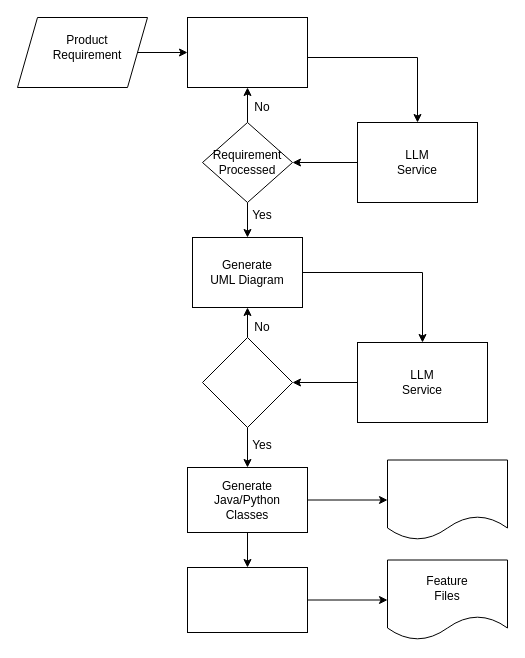
The diagram is 525 pixels wide and 658 high, and some of its shapes have lost their labels. The shapes that lost their labels are listed below. From the top down, each one's centre as x and y in pixels, then its label:
At [247,52]: "Process Requirement".
At [247,382]: "Desired UML Diagram".
At [447,499]: "Multiple Classes".
At [247,599]: "Generate BDD Files".
